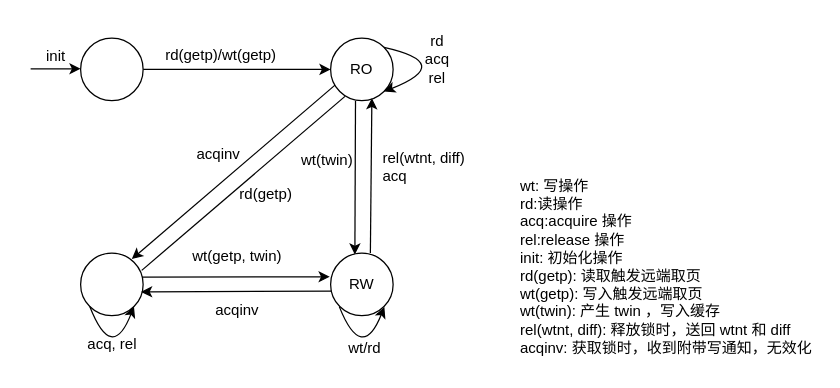
Image size: 840x388. Some labels were removed from this diagram. The shapes that lost their labels are listed below. From the top down, each one's centre as x and y in pixels, then its label:
pixel 111 69: UNMAP
pixel 111 284: INV
